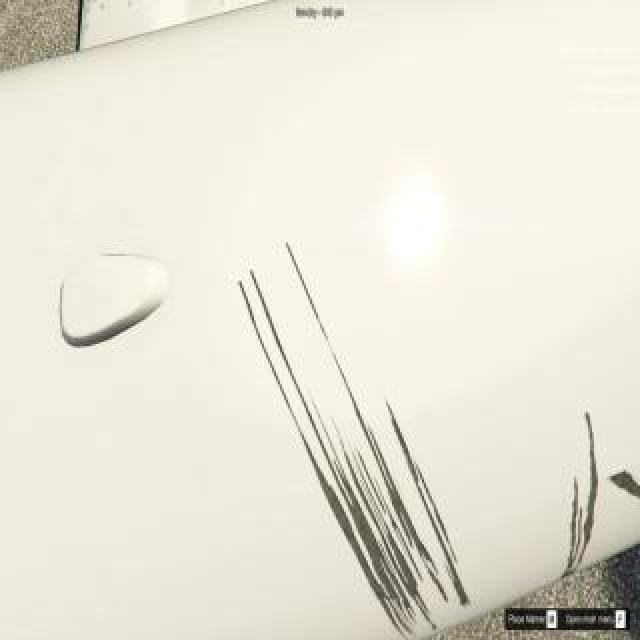dent: (306, 447, 403, 635), (372, 445, 447, 603), (335, 458, 413, 607), (404, 460, 471, 605), (365, 482, 418, 589), (578, 419, 601, 570), (392, 404, 418, 479), (568, 481, 579, 574), (613, 467, 640, 500)
